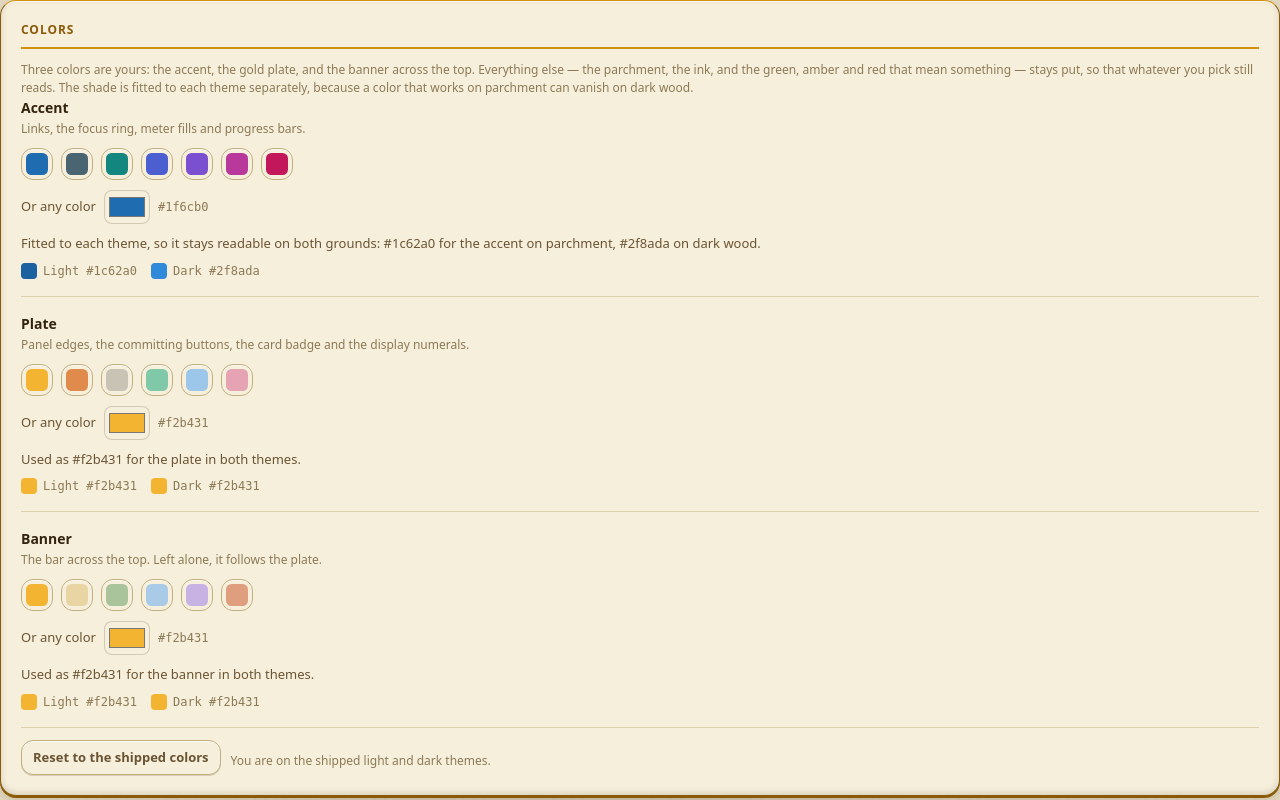
Test: reset › does not leave a refused custom color showing after it, since it bypasses apply
An accepted swatch first, so the scheme differs from default and Reset is enabled.
Click the button named "Accent: Teal".
click(117, 164)  # box [101,148,133,180]
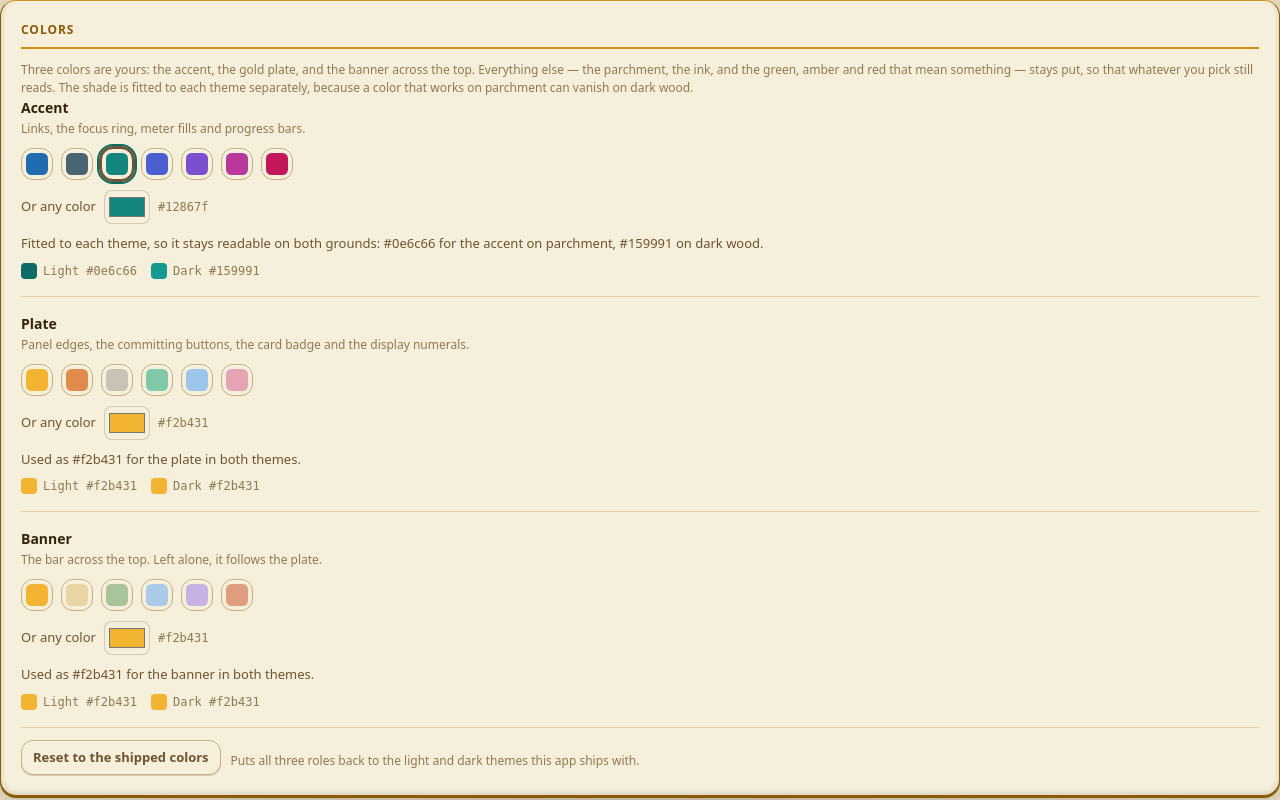
Type "#00ff00" into the colour field named "Accent: choose any color".
click(127, 207); type("#00ff00")  # box [104,190,150,224]
(page scrolled)
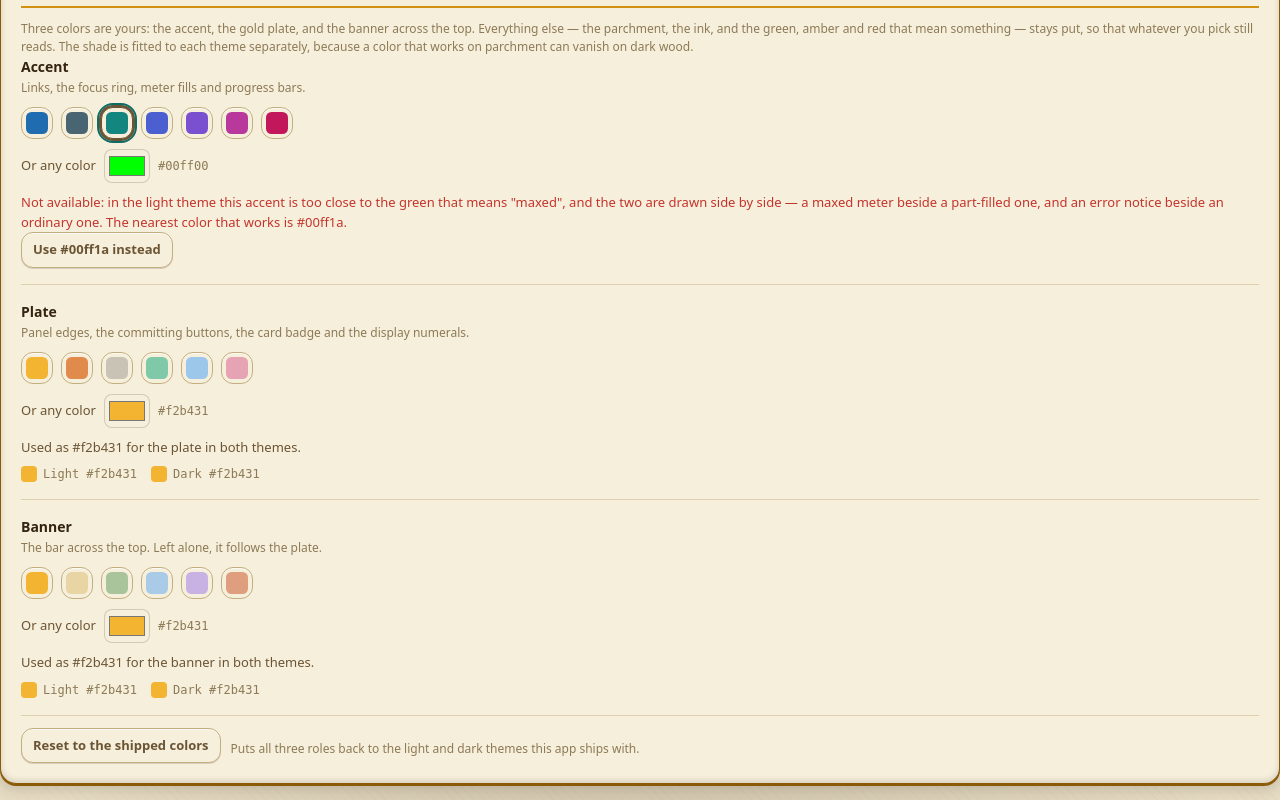
Expected: the text "Not available" is shown, [21,193,1224,230]
Click the button "Reset to the shipped colors".
click(121, 745)  # box [21,728,221,763]
(page scrolled)
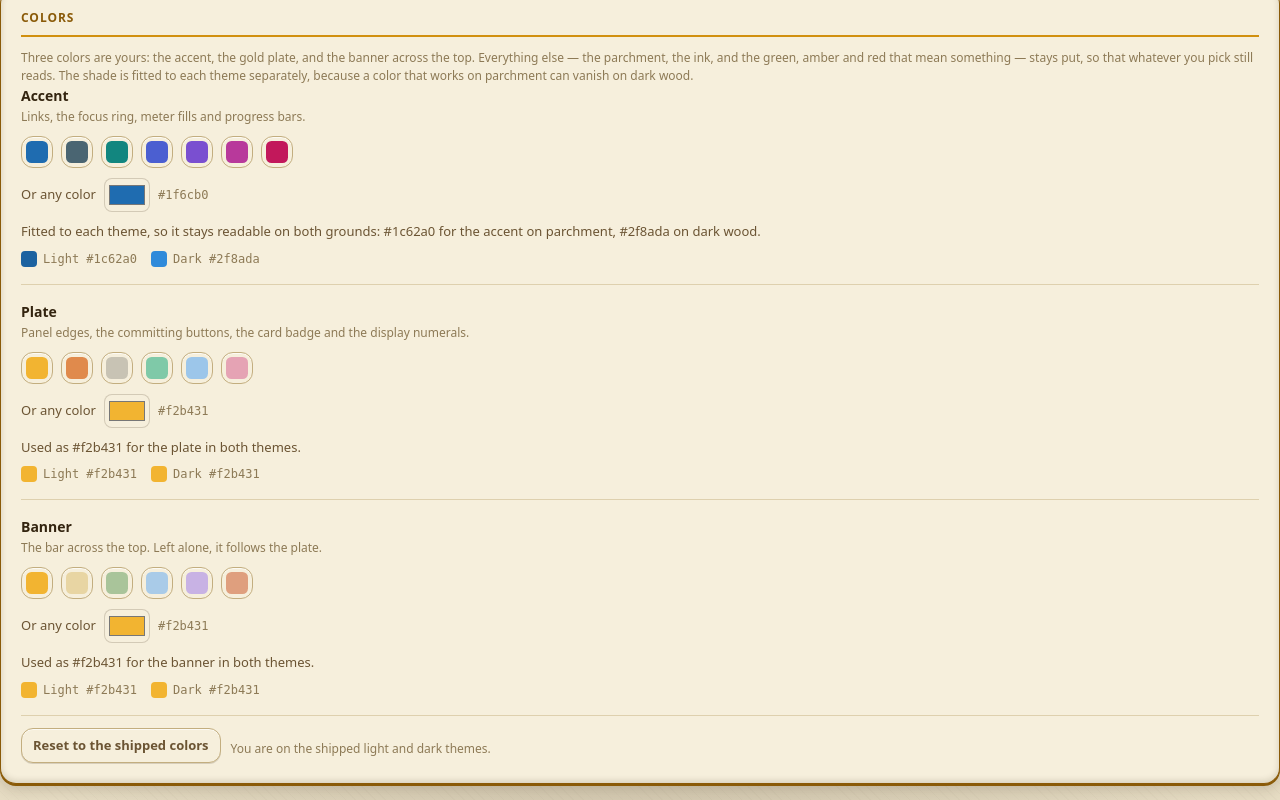
Expected: the text "#1f6cb0" is shown, [158,186,208,204]
Expected: the text "Not available" is gone
